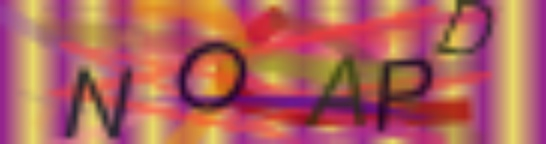A: (302, 52, 369, 130)
D: (437, 1, 495, 56)
N: (60, 64, 138, 142)
O: (176, 39, 250, 112)
P: (374, 57, 434, 136)
